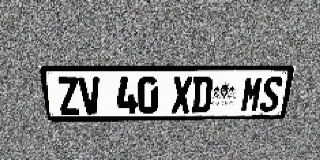0: (137, 77, 158, 114)
4: (116, 77, 137, 114)
D: (191, 77, 213, 113)
M: (240, 76, 264, 112)
S: (259, 76, 284, 112)
V: (78, 77, 102, 114)
X: (171, 77, 193, 113)
Z: (56, 77, 81, 115)
